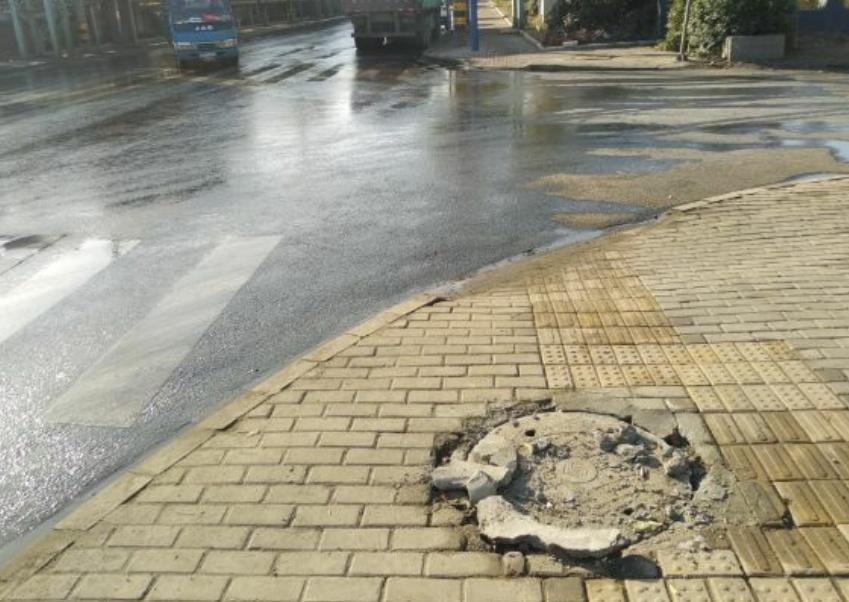wellcover: (424, 385, 714, 559)
